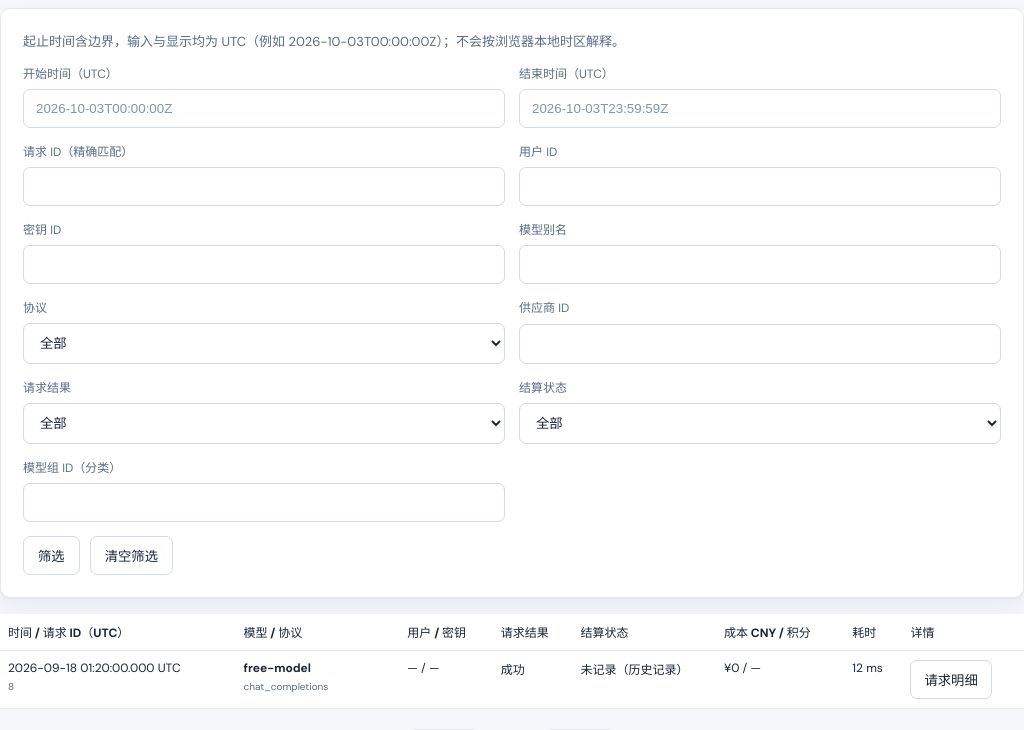
Test: settlementHint › 在零金额时仍完整显示账本数量和价格版本，不推断请求为免费
(page scrolled)
Click the button "请求明细". click: (951, 680)
box: [910,660,992,699]
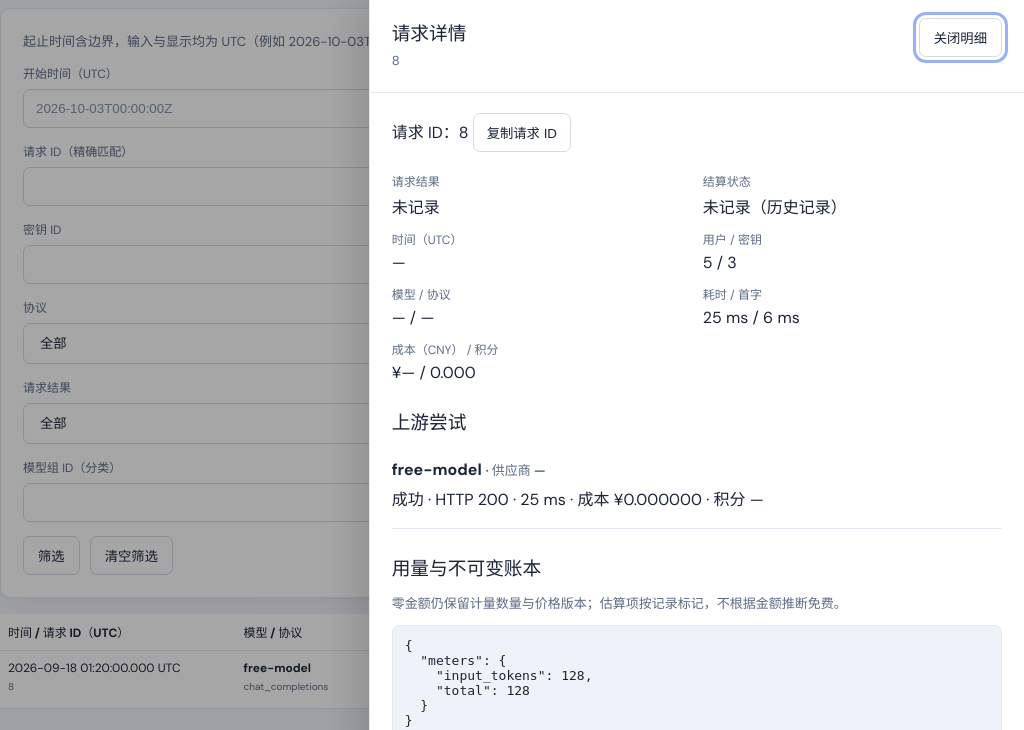
Check: the element with class "request-facts" shows "未记录（历史记录）", box [703,197,847,218]
